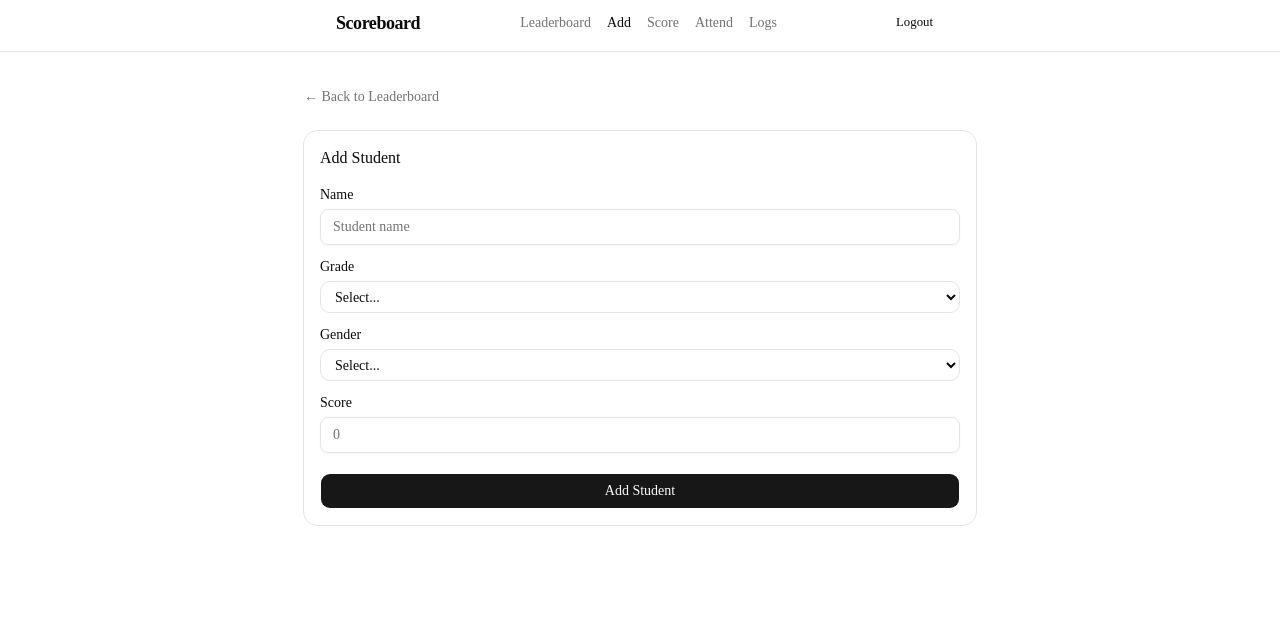
it: CreatePage › shows error message on submission failure
Type "Alice" into the field labelled "Name". click: (640, 227)
box: [320,209,960,245]
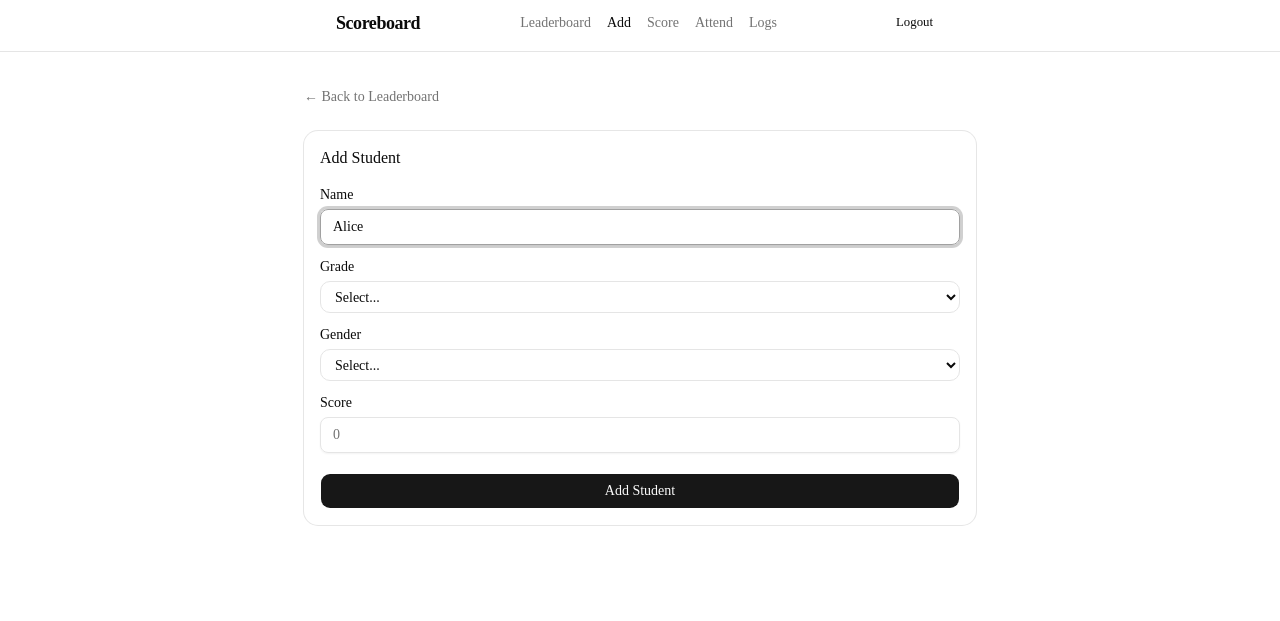
Select "5 primary" in the dropdown labelled "Grade". click: (640, 297)
box: [320,281,960,313]
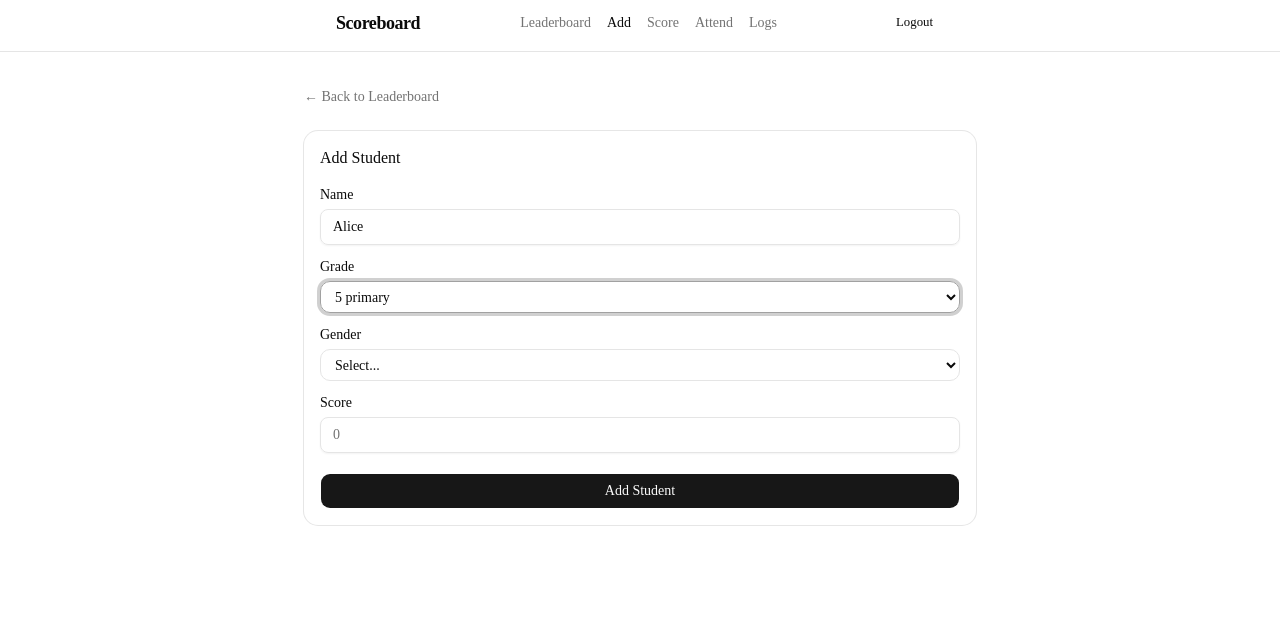
Select "Female" in the dropdown labelled "Gender". click: (640, 365)
box: [320,349,960,381]
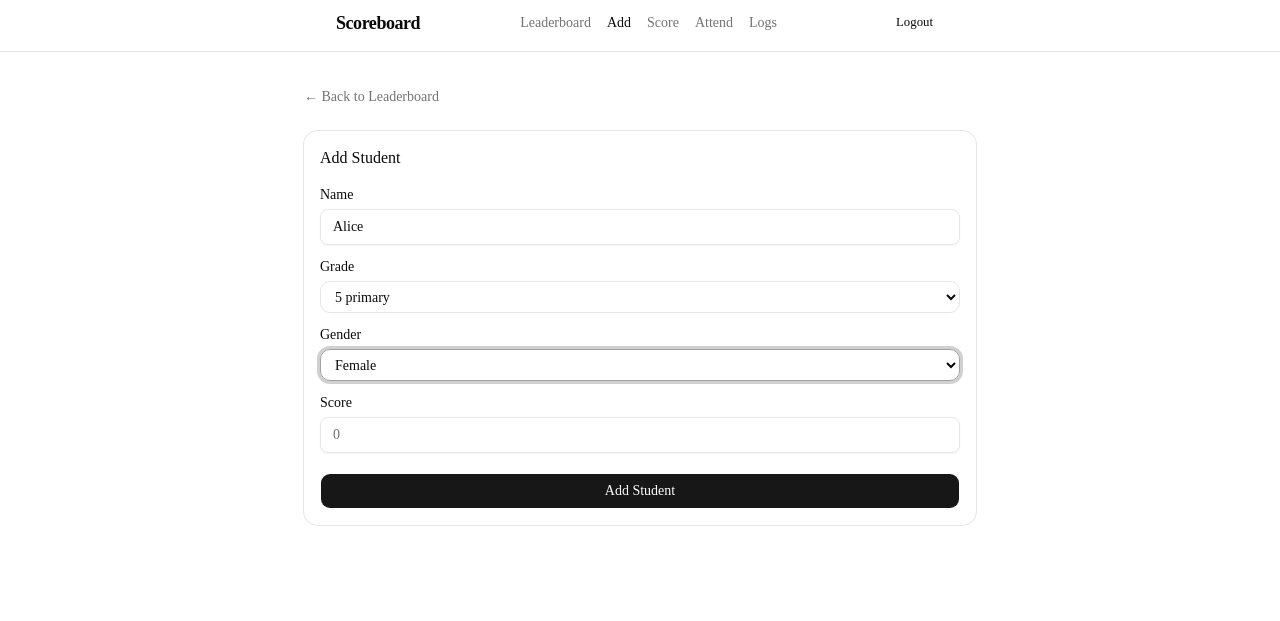
Type "95" into the number field labelled "Score". click: (640, 435)
box: [320,417,960,453]
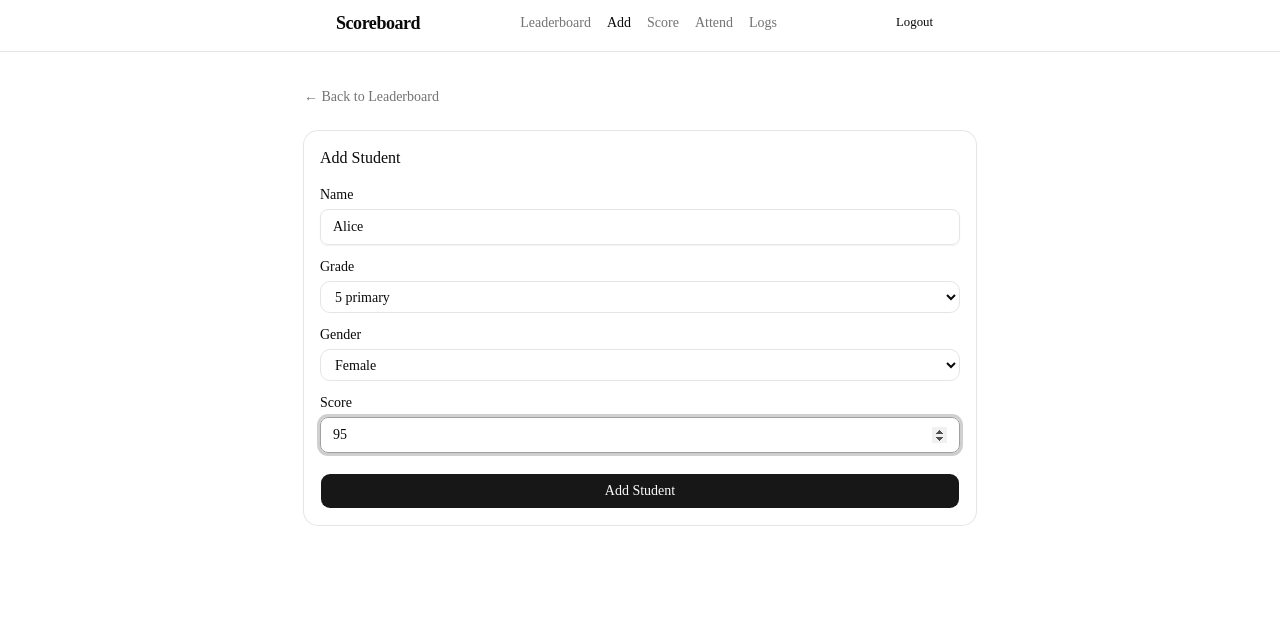
Click the button "Add Student". click: (640, 491)
box: [320,473,960,509]
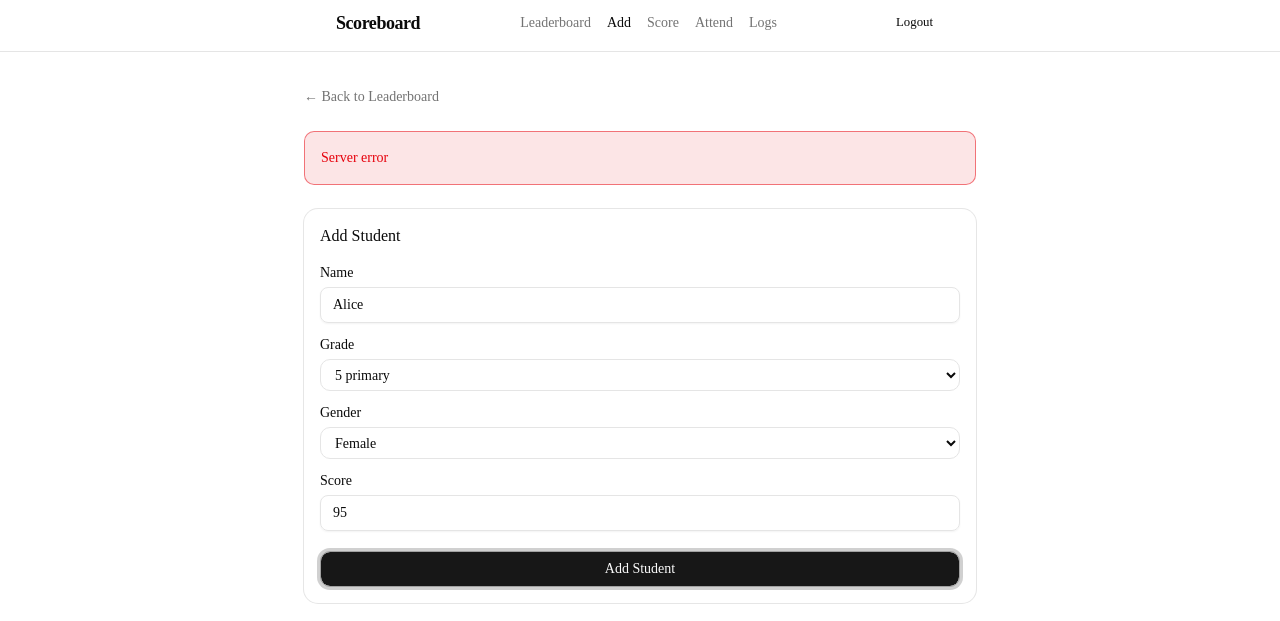
Expected: the message "Server error" is shown, [304,131,976,185]
